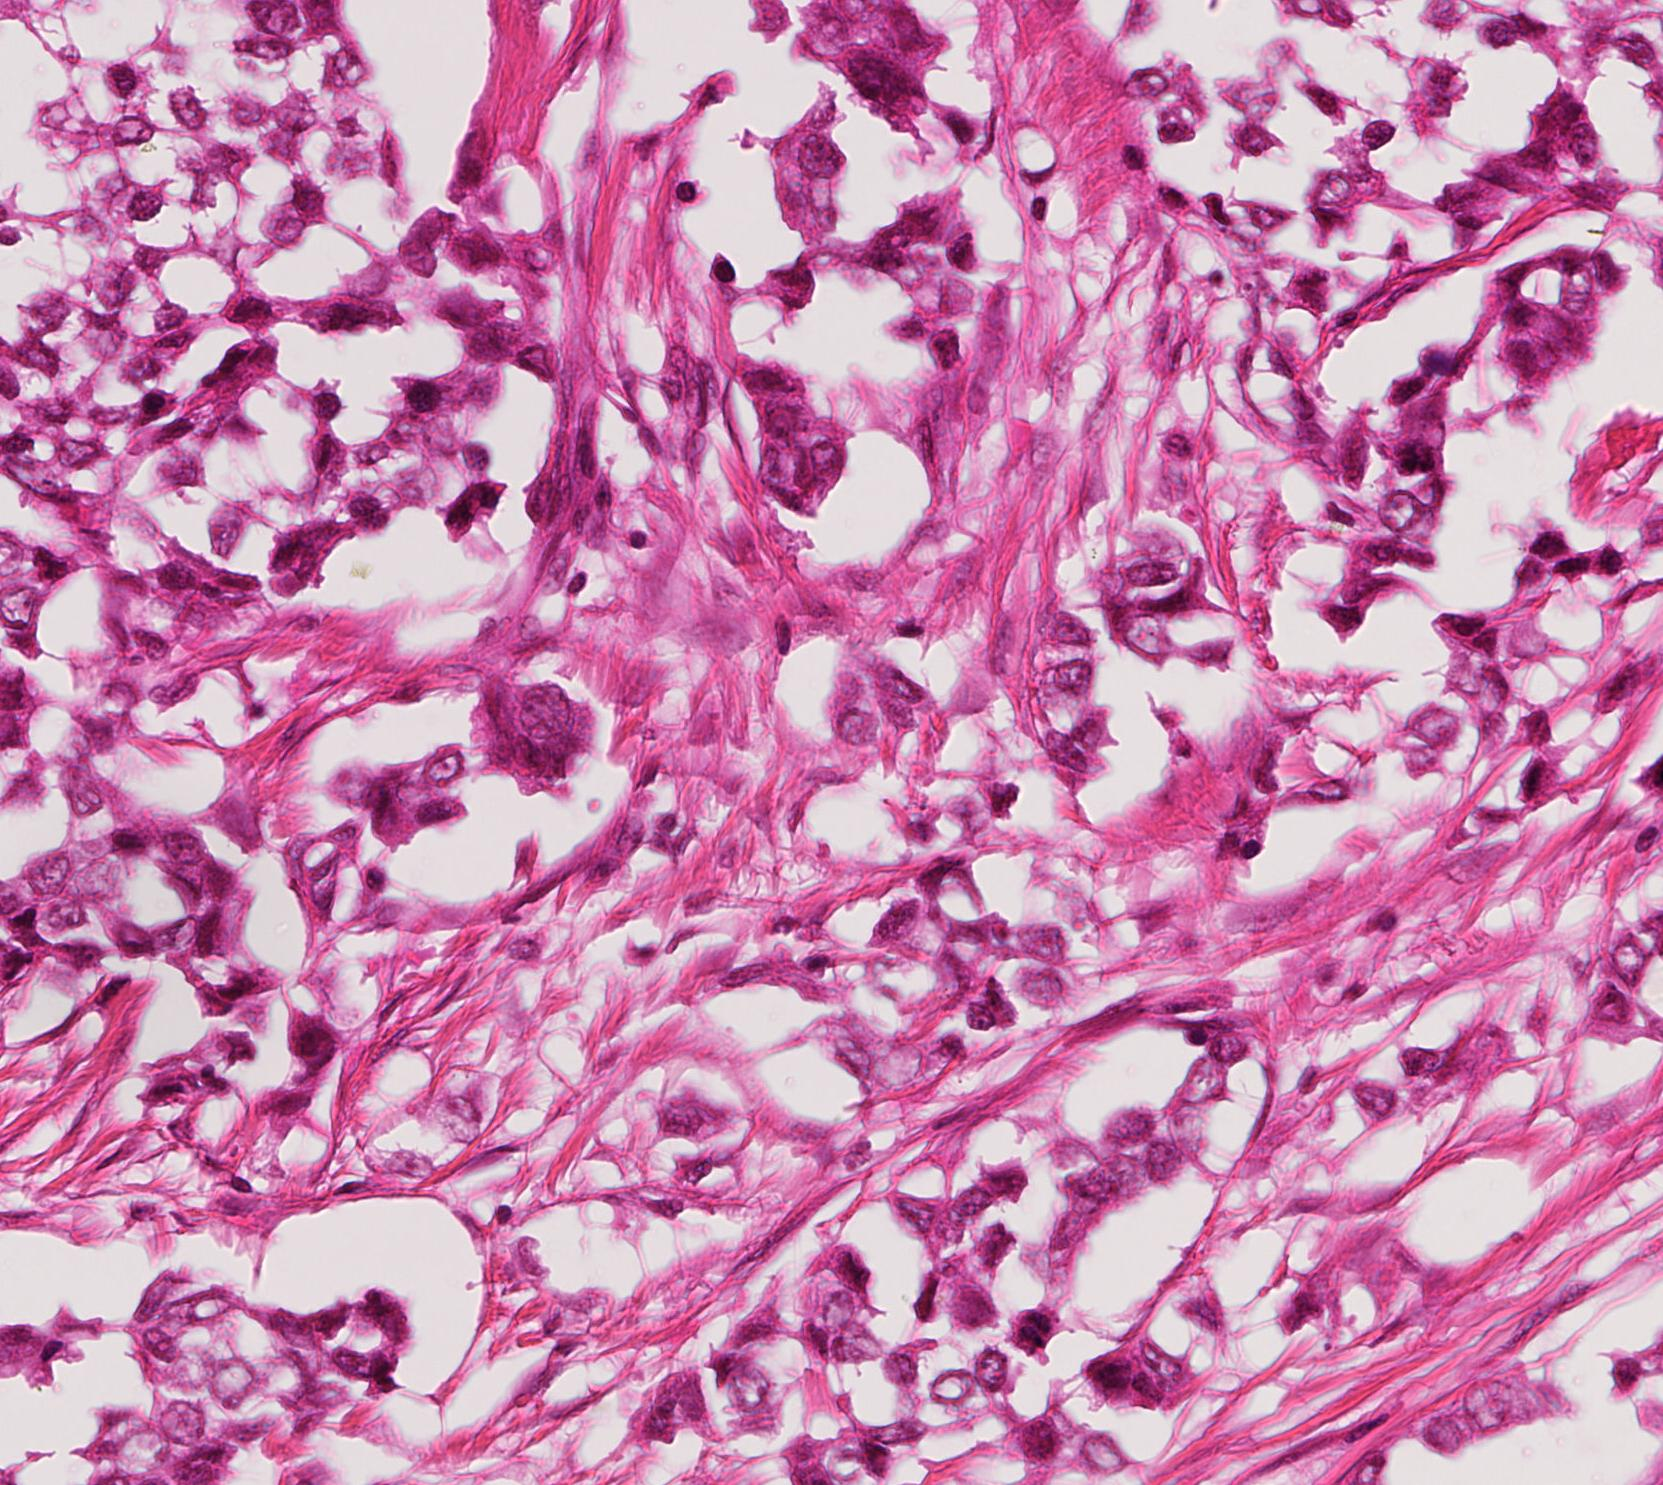mitosis: (1006, 1291, 1067, 1352)
